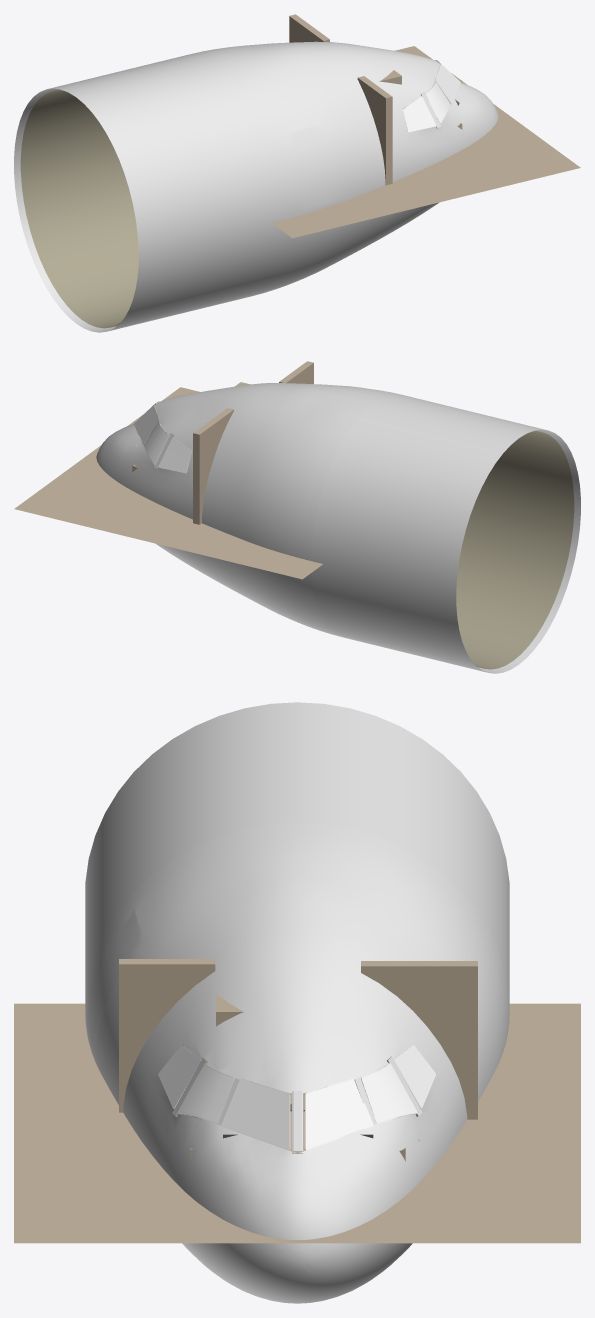
Rendered from Cockpit_V1.fbx.
The picture shows the model from 3 angles, top to bottom: view 1: azimuth 30°, elevation 25°; view 2: azimuth 150°, elevation 25°; view 3: azimuth 270°, elevation 25°; orthographic projection. The views are drawn at different scales.
Visible parts, largest first — view 1: Fuselage_Exterior, Fuselage_Interior, Floor, Windows, Wall2, Wall1; view 2: Fuselage_Exterior, Fuselage_Interior, Floor, Wall1, Windows, Wall2; view 3: Fuselage_Exterior, Floor, Windows, Wall1, Wall2, polySurface464.
Boxes of the visible parts, x1=… form: Fuselage_Exterior: x1=14, y1=41, x2=498, y2=332; Fuselage_Interior: x1=20, y1=89, x2=138, y2=328; Floor: x1=272, y1=46, x2=580, y2=238; Windows: x1=403, y1=59, x2=460, y2=132; Wall2: x1=357, y1=76, x2=392, y2=185; Wall1: x1=289, y1=14, x2=329, y2=42; Fuselage_Exterior: x1=96, y1=383, x2=580, y2=673; Fuselage_Interior: x1=456, y1=430, x2=574, y2=669; Floor: x1=14, y1=387, x2=322, y2=579; Wall1: x1=193, y1=408, x2=233, y2=524; Windows: x1=134, y1=401, x2=191, y2=473; Wall2: x1=279, y1=361, x2=313, y2=383; Fuselage_Exterior: x1=85, y1=702, x2=509, y2=1303; Floor: x1=14, y1=1003, x2=580, y2=1243; Windows: x1=158, y1=1044, x2=435, y2=1150; Wall1: x1=361, y1=961, x2=477, y2=1119; Wall2: x1=119, y1=959, x2=215, y2=1112; polySurface464: x1=172, y1=1056, x2=422, y2=1161.
Bounding box in the file's own units: 886 × 455 × 607.
